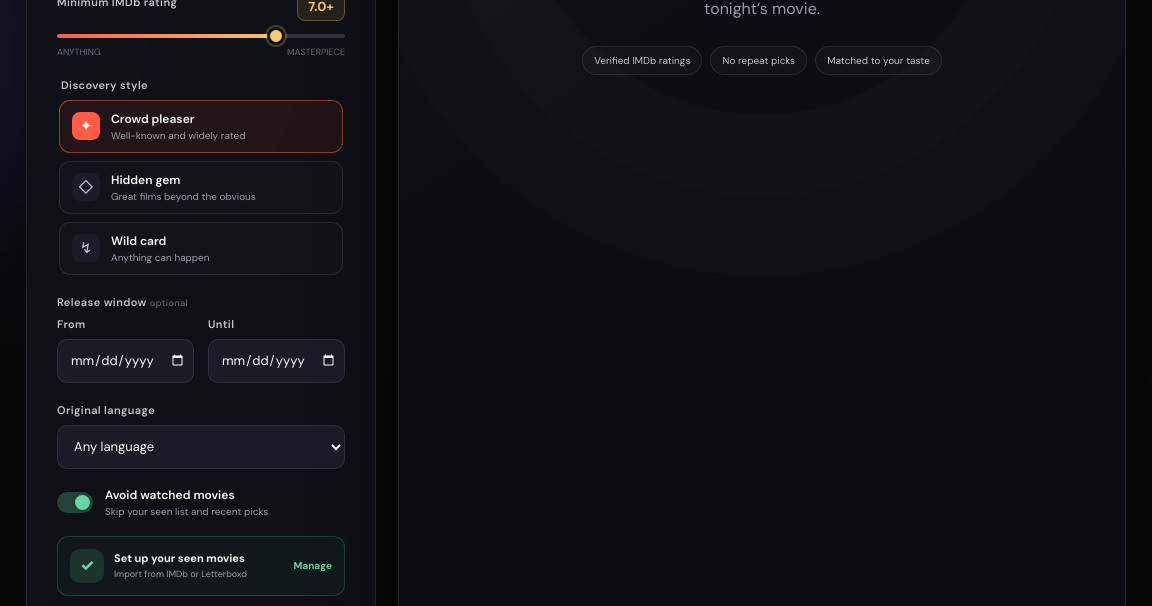
reset clears and remounts both native date inputs
The width and height of the screenshot is (1152, 606).
(page scrolled)
Type "2000-01-01" into the date field labelled "From" at (126, 361), box [57,339,194,383]
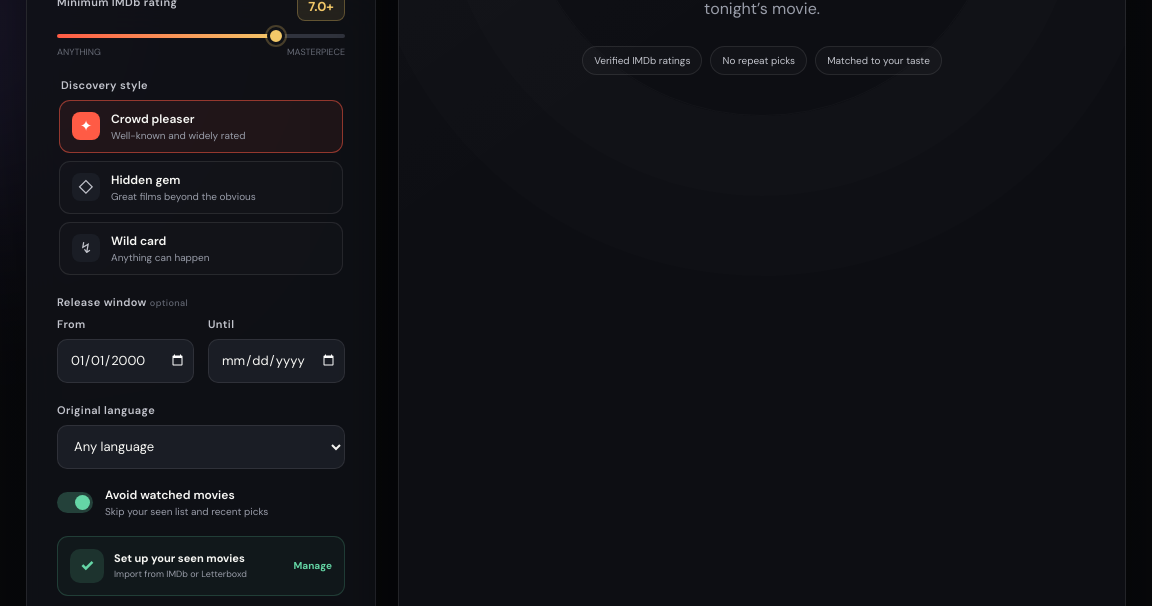
Type "2020-12-31" into the date field labelled "Until" at (276, 361), box [208,339,345,383]
(page scrolled)
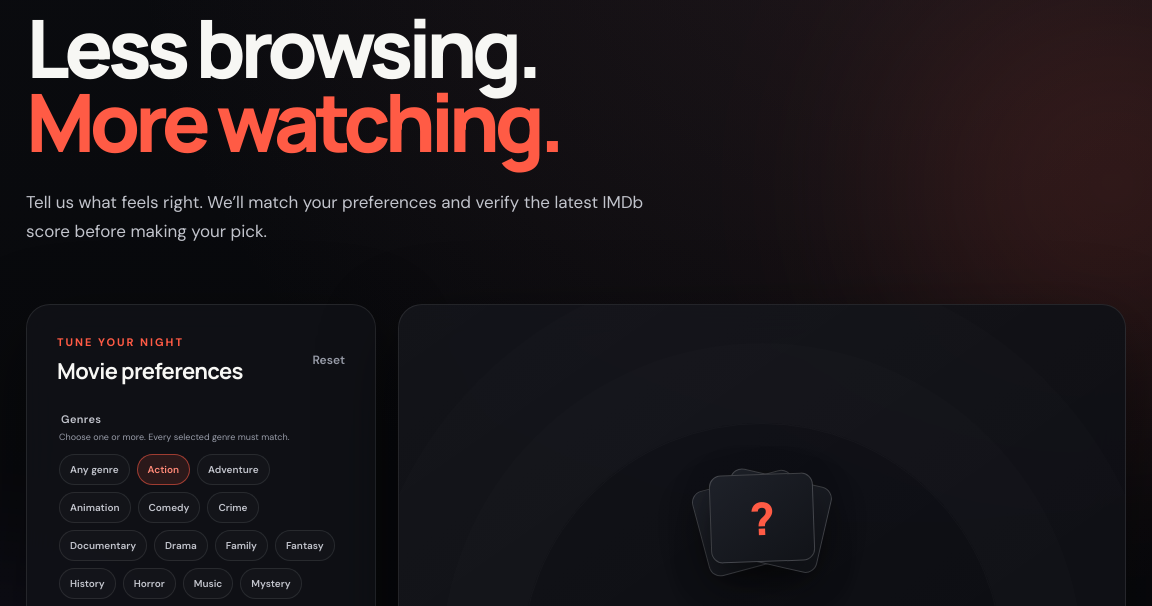
Click the button "Reset" at (329, 360), box [312,346,345,374]
(page scrolled)
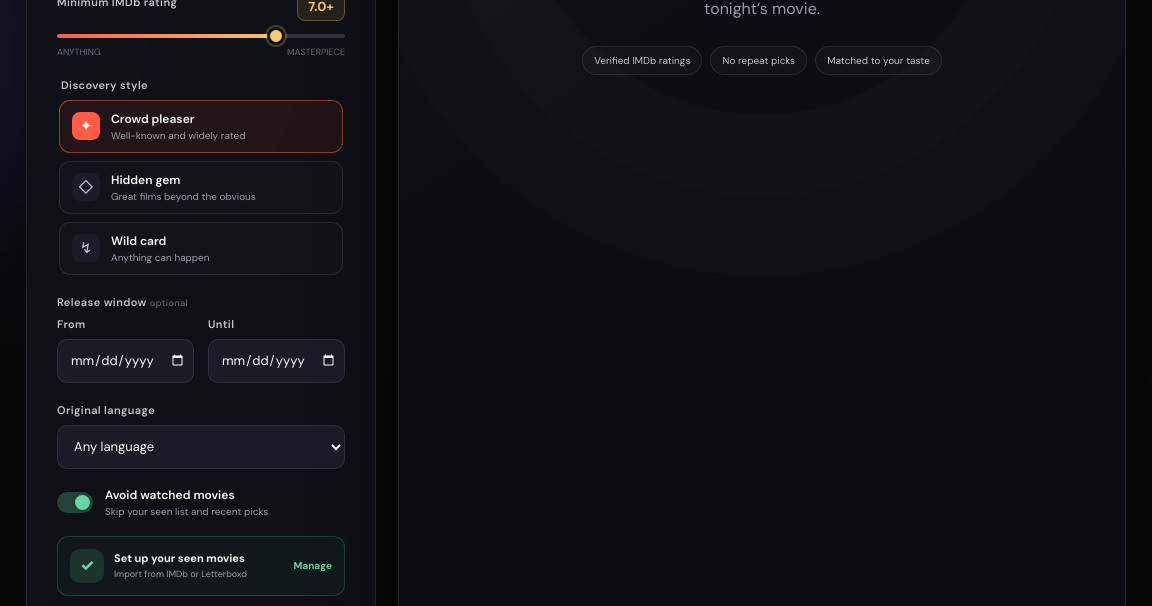
Now the date field labelled "From" is empty, box [57,339,194,383]
Now the date field labelled "Until" is empty, box [208,339,345,383]
